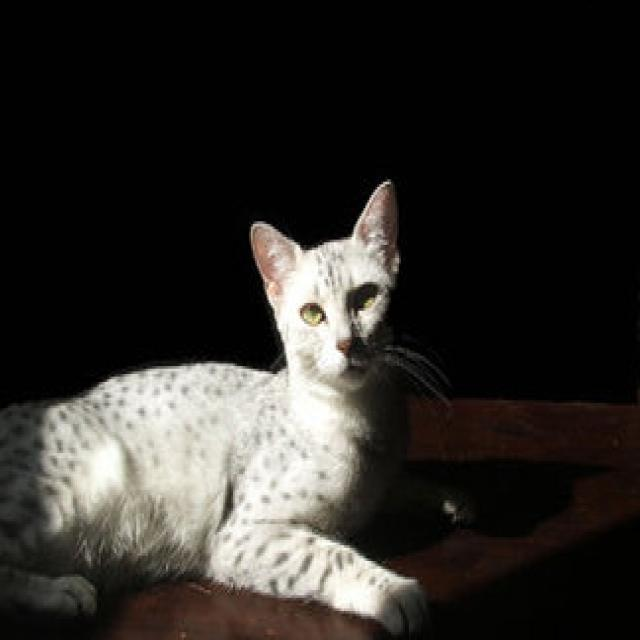Egyptian Mau: (0, 171, 476, 640)
